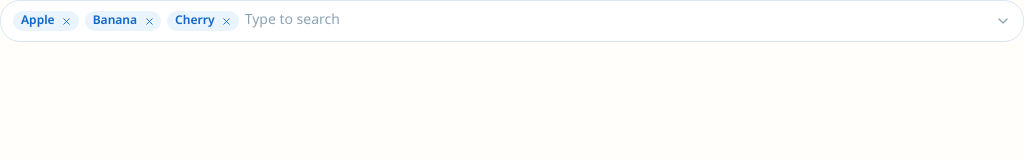
Scenario: ChipMultiSelect › says so when everything has already been chosen
This screenshot has width=1024, height=160.
Click the dropdown named "Fruit" at [617, 21], box [245, 9, 989, 33]
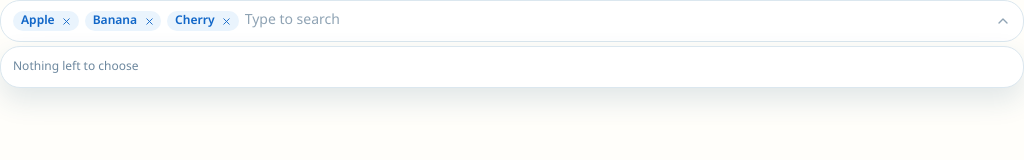
Now the list item "Nothing left to choose" is shown, box [13, 59, 138, 75]
